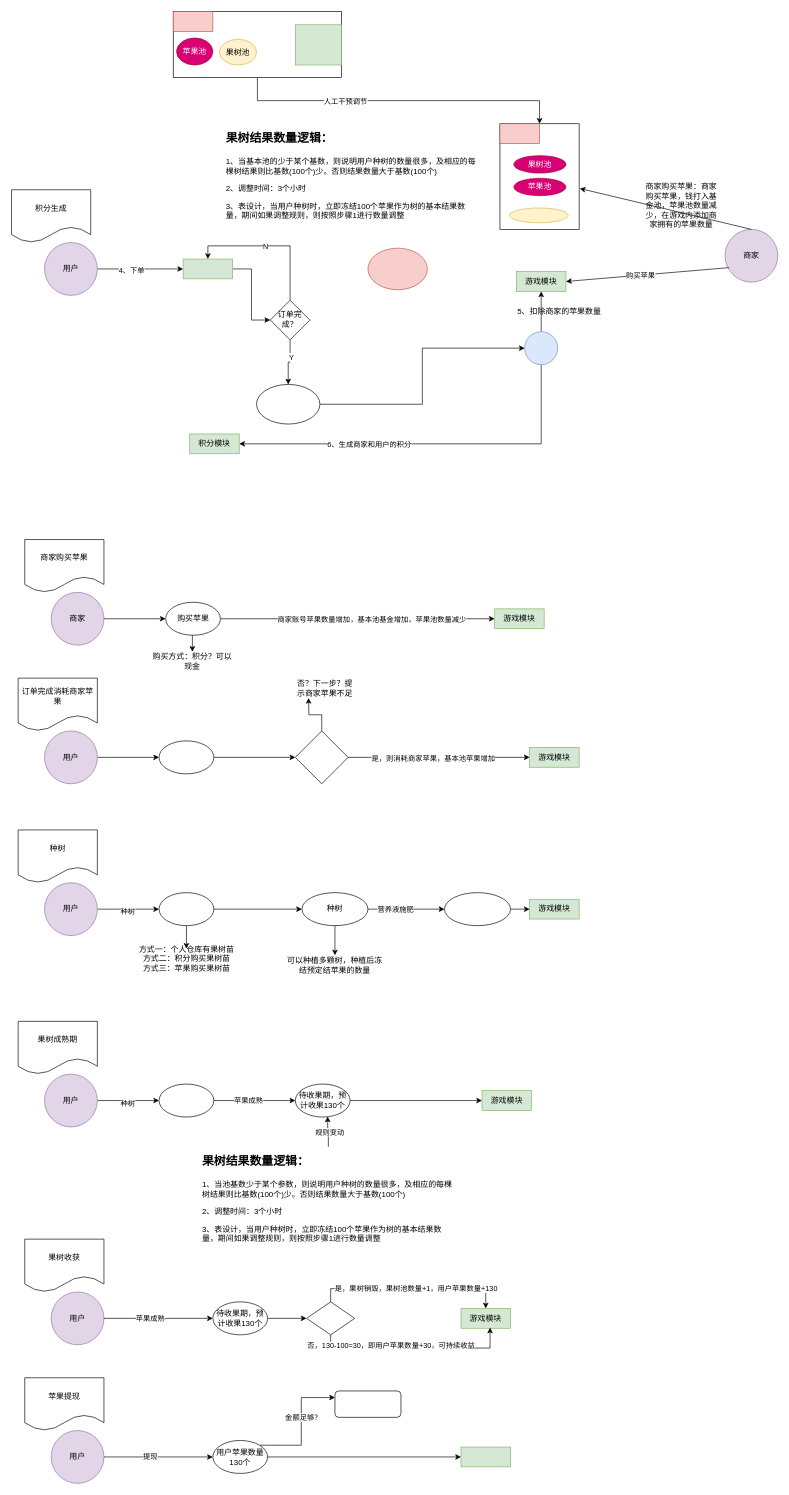
Image size: 789x1495. Some labels were removed from this diagram. Here are the shapes that lost their labels. From the top down, the centre of each, then its label:
the point at 193,21: 风控池
the point at 318,44: 某个基数（结果数量）
the point at 519,133: 基本池
the point at 538,215: 资金池
the point at 207,268: 订单模块
the point at 397,269: 成熟的果树
the point at 541,348: MQ
the point at 288,404: 订单完成，计算积分和扣除商家苹果
the point at 186,757: 订单完成
the point at 321,757: 商家是否有足够的苹果消耗？
the point at 186,909: 个人仓库
the point at 477,909: 果树待成熟期
the point at 186,1100: 待成熟期，预计结果100个
the point at 330,1318: 一次性全部收获？
the point at 367,1403: 基金池
the point at 485,1456: 用户收款账号
